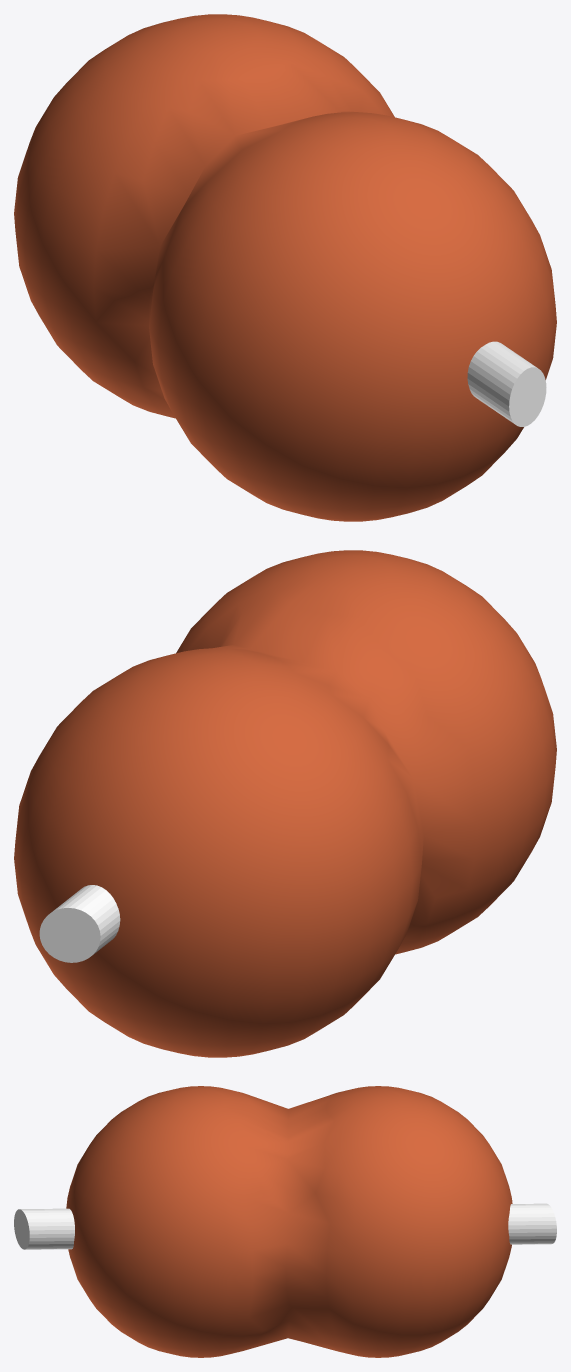
Rendered from niku.fbx.
3 renders of one model, top to bottom at view 1: azimuth 30°, elevation 25°; view 2: azimuth 150°, elevation 25°; view 3: azimuth 270°, elevation 25°, orthographic. The views are drawn at different scales.
Visible parts, largest first — view 1: Sphere, Cylinder; view 2: Sphere, Cylinder; view 3: Sphere, Cylinder.
Part boxes in pixels (x1,y1,x2,y2): Sphere: [14, 14, 556, 521]; Cylinder: [467, 341, 546, 426]; Sphere: [14, 550, 556, 1057]; Cylinder: [39, 885, 120, 962]; Sphere: [66, 1086, 512, 1357]; Cylinder: [14, 1203, 556, 1249].
Size of the model in its own units: 131 by 131 by 261.
